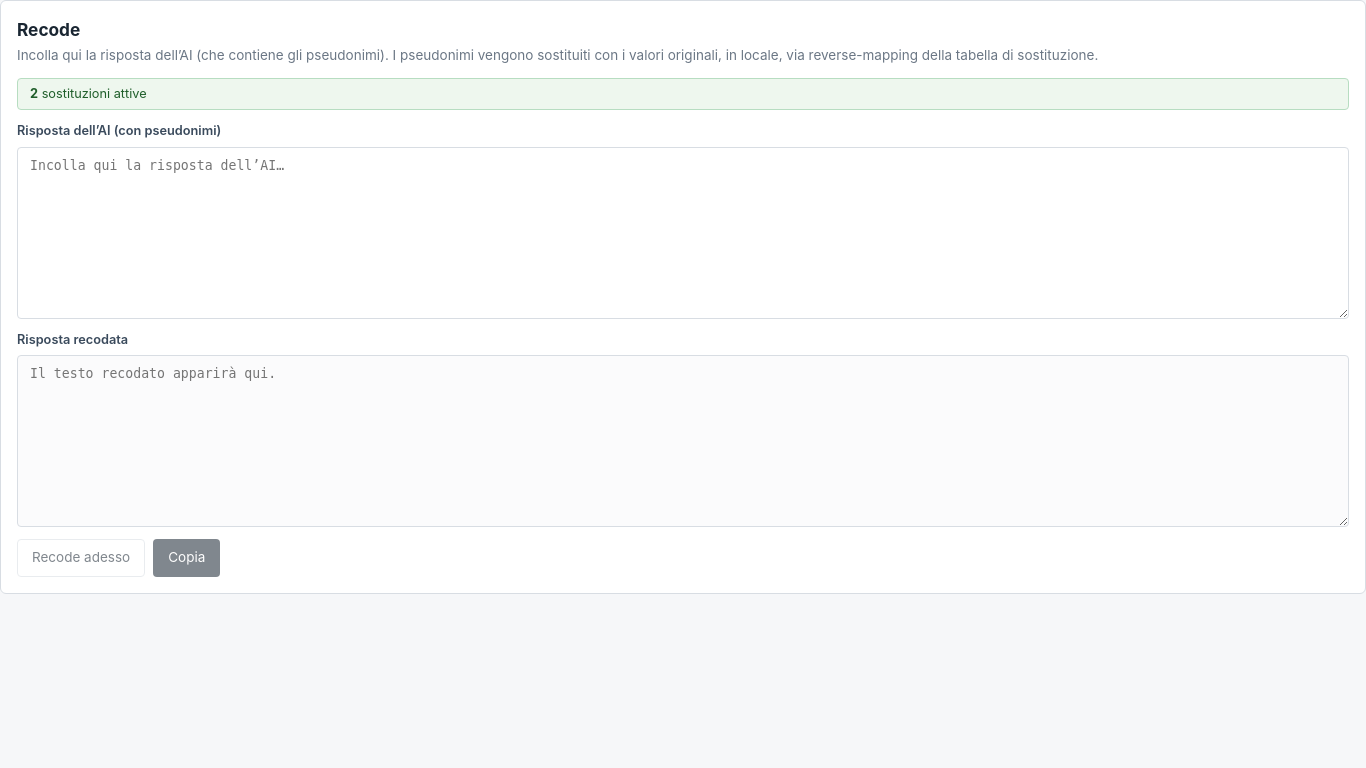
Test: RecodePanel › debounces — only the final value is recoded after rapid changes
The image size is (1366, 768).
Type "Caio" into the text box with test id "claude-response-textarea" at (683, 232), box [17, 146, 1349, 318]
Wait 100 ms
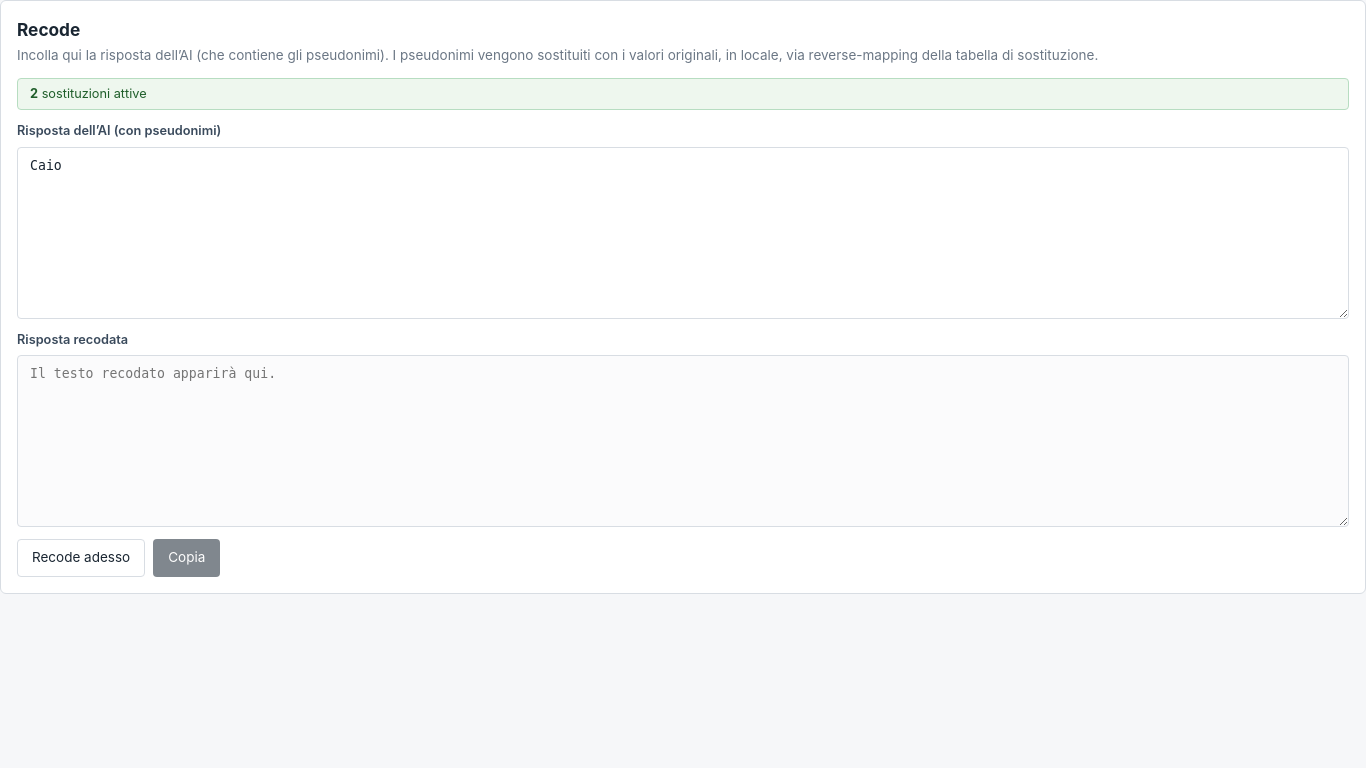
Replace the text in the text box with test id "claude-response-textarea" with "<EMAIL>" at (683, 232), box [17, 146, 1349, 318]
Wait 100 ms
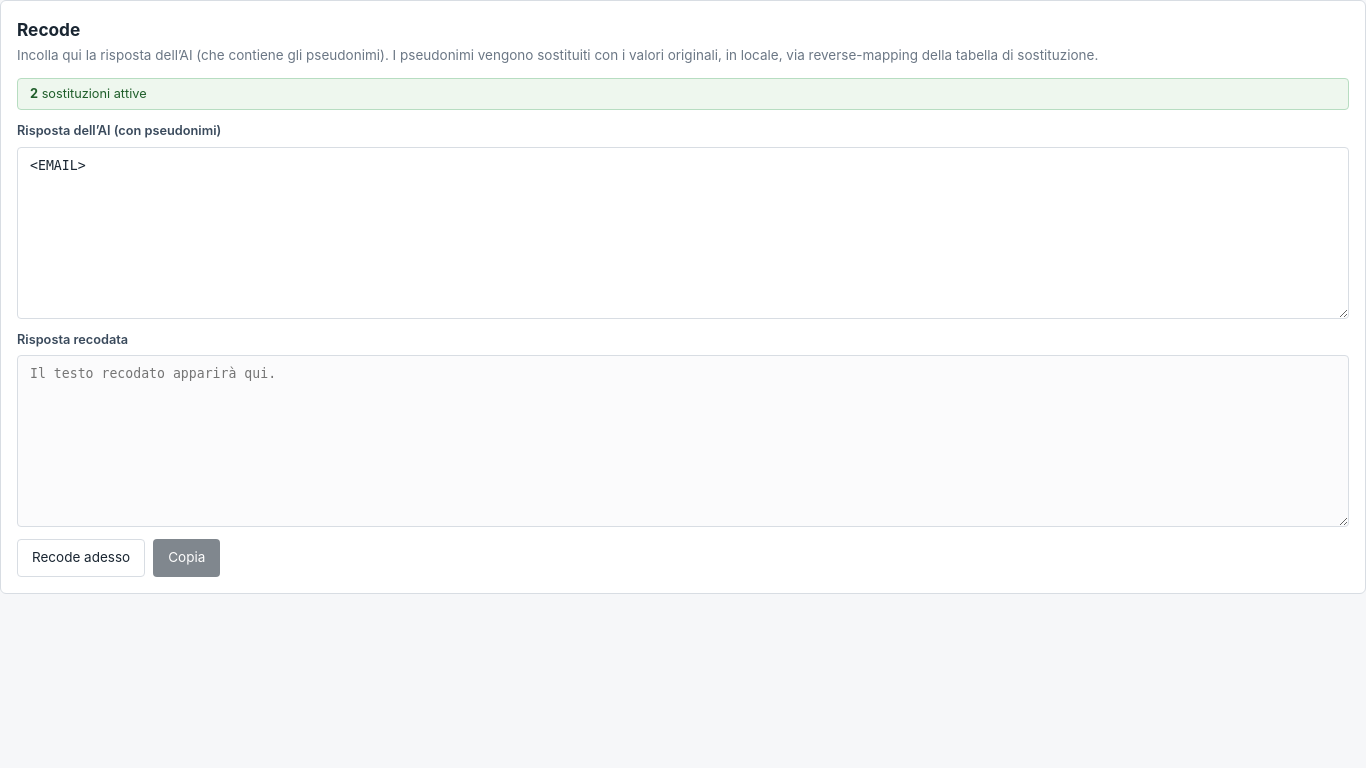
Replace the text in the text box with test id "claude-response-textarea" with "Caio risponde a <EMAIL>" at (683, 232), box [17, 146, 1349, 318]
Wait 600 ms
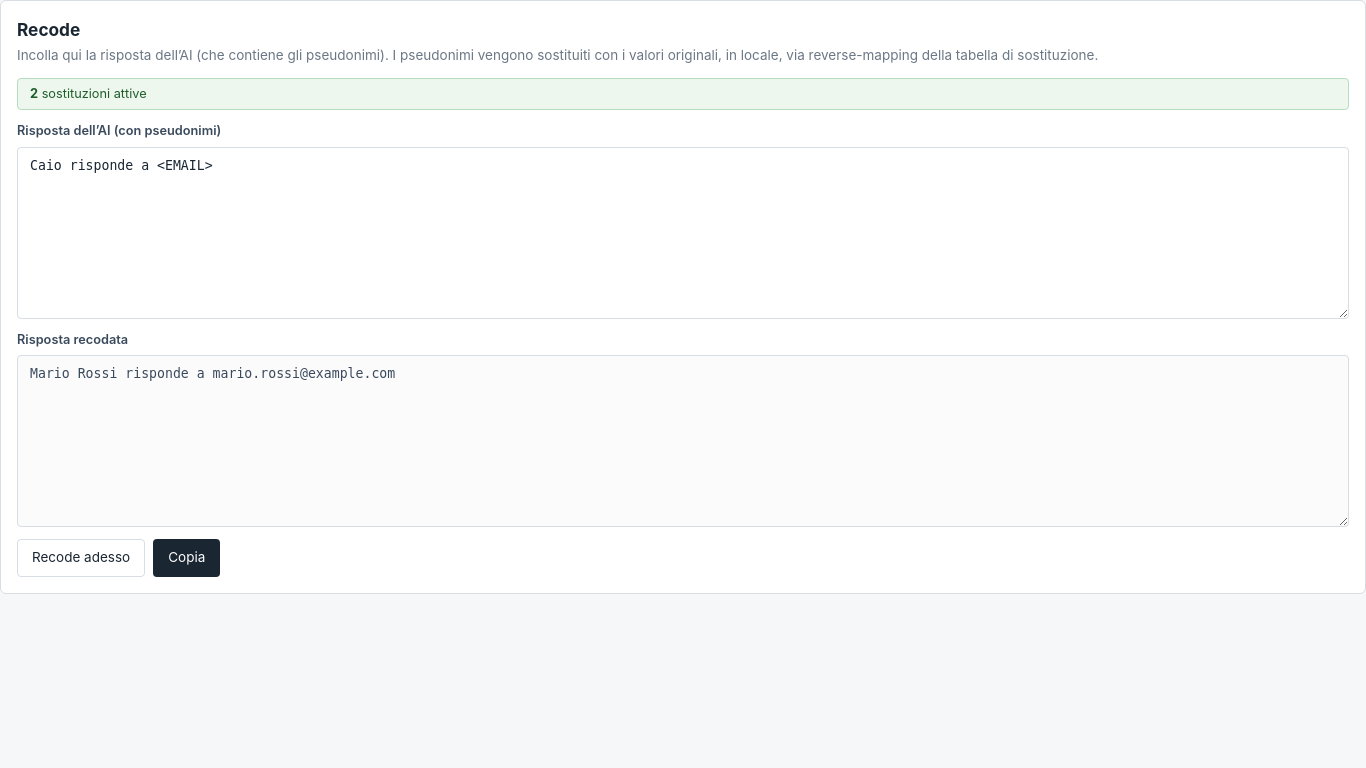
Expected: the text box with test id "recoded-textarea" holds "Mario Rossi risponde a mario.rossi@example.com", [17, 355, 1349, 527]
